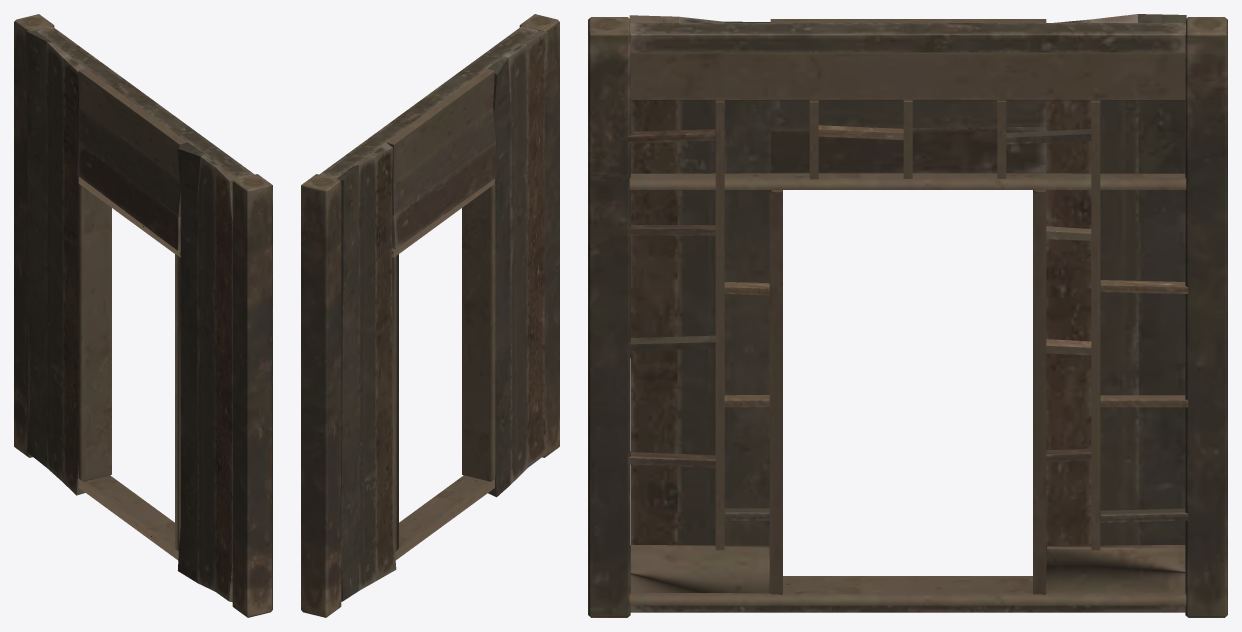
File: wall.doorway.frontier_variant_b.glb
3 renders of one model, left to right at view 1: azimuth 30°, elevation 25°; view 2: azimuth 150°, elevation 25°; view 3: azimuth 270°, elevation 25°, orthographic. The views are drawn at different scales.
Parts seen in each view (by area): view 1: wall.doorway_b_LOD0; view 2: wall.doorway_b_LOD0; view 3: wall.doorway_b_LOD0.
Part boxes in pixels (left/top/right/bottom): wall.doorway_b_LOD0: left=14, top=14, right=272, bottom=617; wall.doorway_b_LOD0: left=301, top=14, right=559, bottom=617; wall.doorway_b_LOD0: left=588, top=14, right=1227, bottom=617.
Size of the model in its own units: 0.2266 by 3.05 by 3.
1 material, 1 textured.
